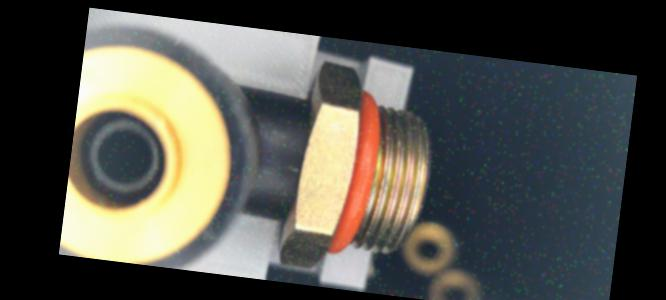white mark: (288, 166, 303, 176)
